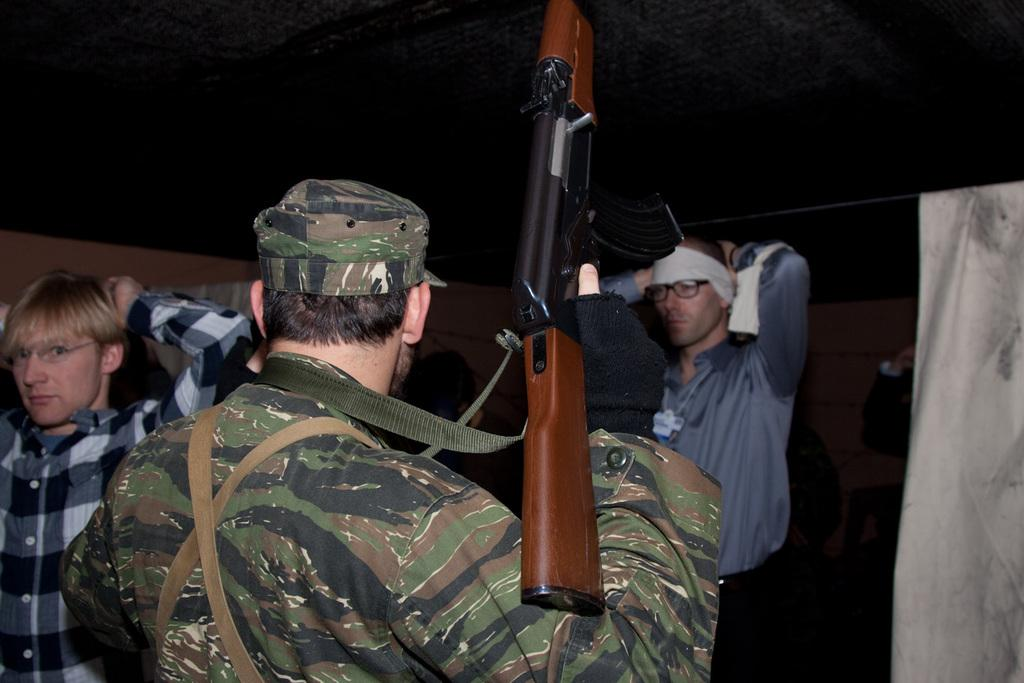non-violence: (59, 176, 722, 683), (1, 277, 252, 683), (598, 239, 809, 682)
weapon: (523, 7, 687, 602)
